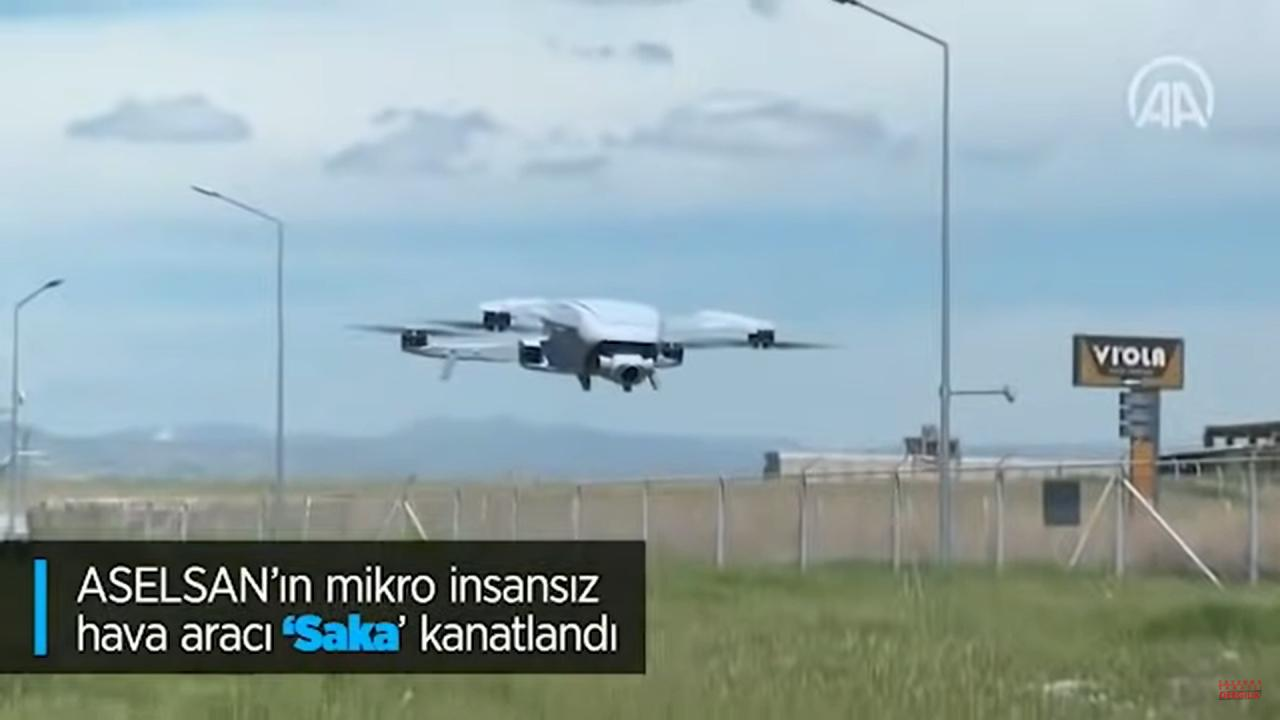Drone: (333, 265, 862, 418)
